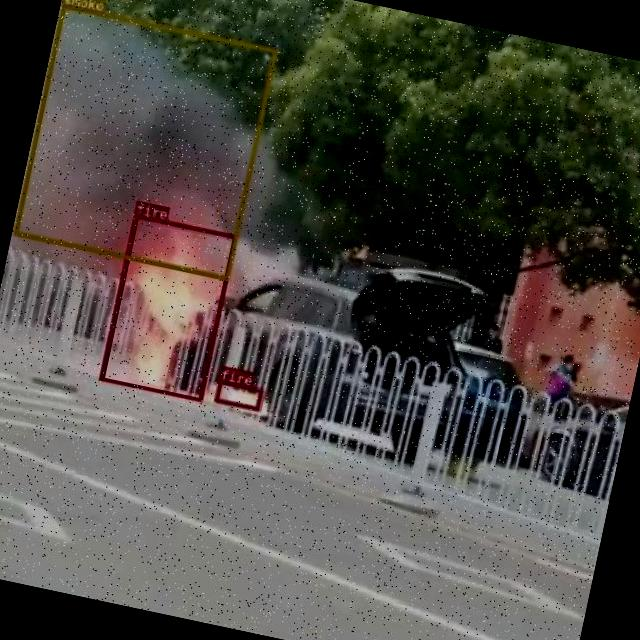smoke: (13, 2, 277, 280)
